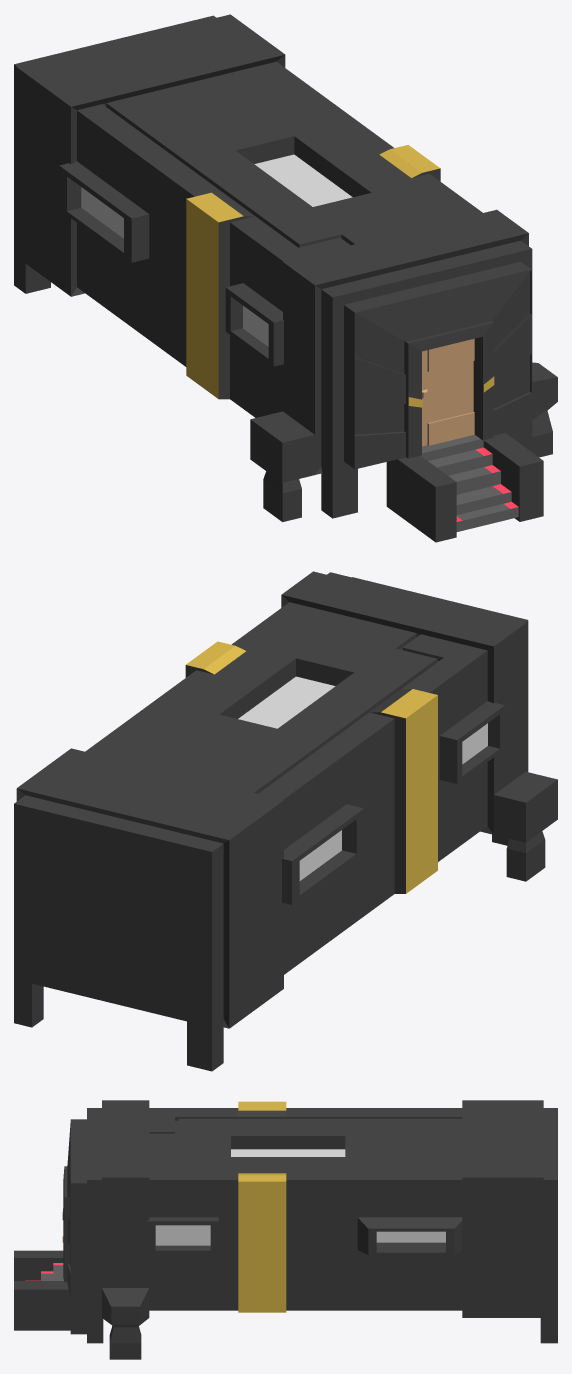
Rendered from CONTAINERS55.fbx.
The picture shows the model from 3 angles, top to bottom: view 1: azimuth 30°, elevation 25°; view 2: azimuth 150°, elevation 25°; view 3: azimuth 270°, elevation 25°; orthographic projection. The views are drawn at different scales.
Visible parts, largest first — view 1: Cube; view 2: Cube; view 3: Cube.
Boxes of the visible parts, <box> form: Cube: <box>14,14,557,542</box>; Cube: <box>14,571,557,1071</box>; Cube: <box>14,1100,557,1359</box>.
Size of the model in its own units: 471 by 376 by 1065.
